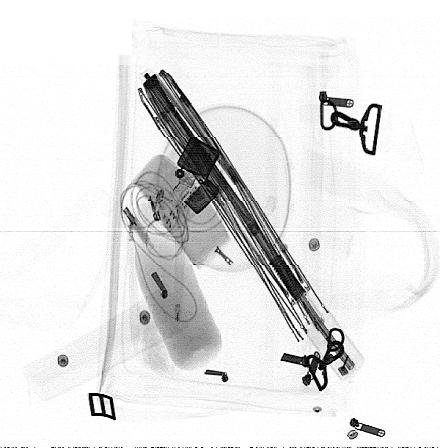Lighter: (175, 136, 221, 215)
